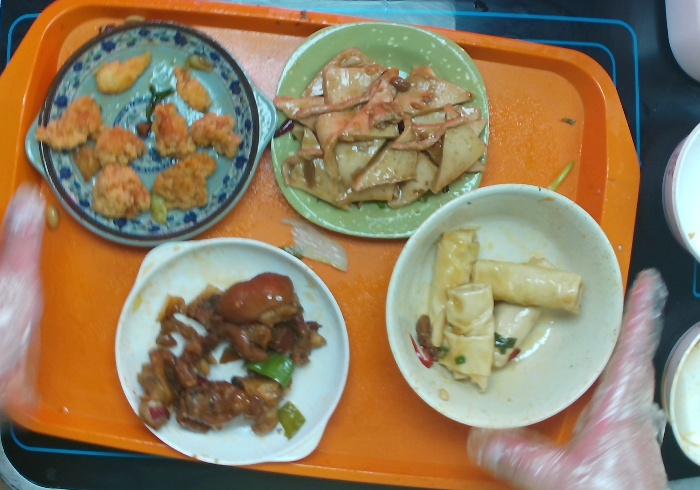NLDX-Bai_Se_Shuang_Er_Die: (115, 237, 347, 468)
NLDX-Bai_Se_Yuan_Wan: (382, 181, 628, 427)
NLDX-Lv_Hua_Fang_Die: (269, 21, 490, 239)
NLDX-Qing_Hua_Shuang_Er_Die: (20, 18, 279, 245)
